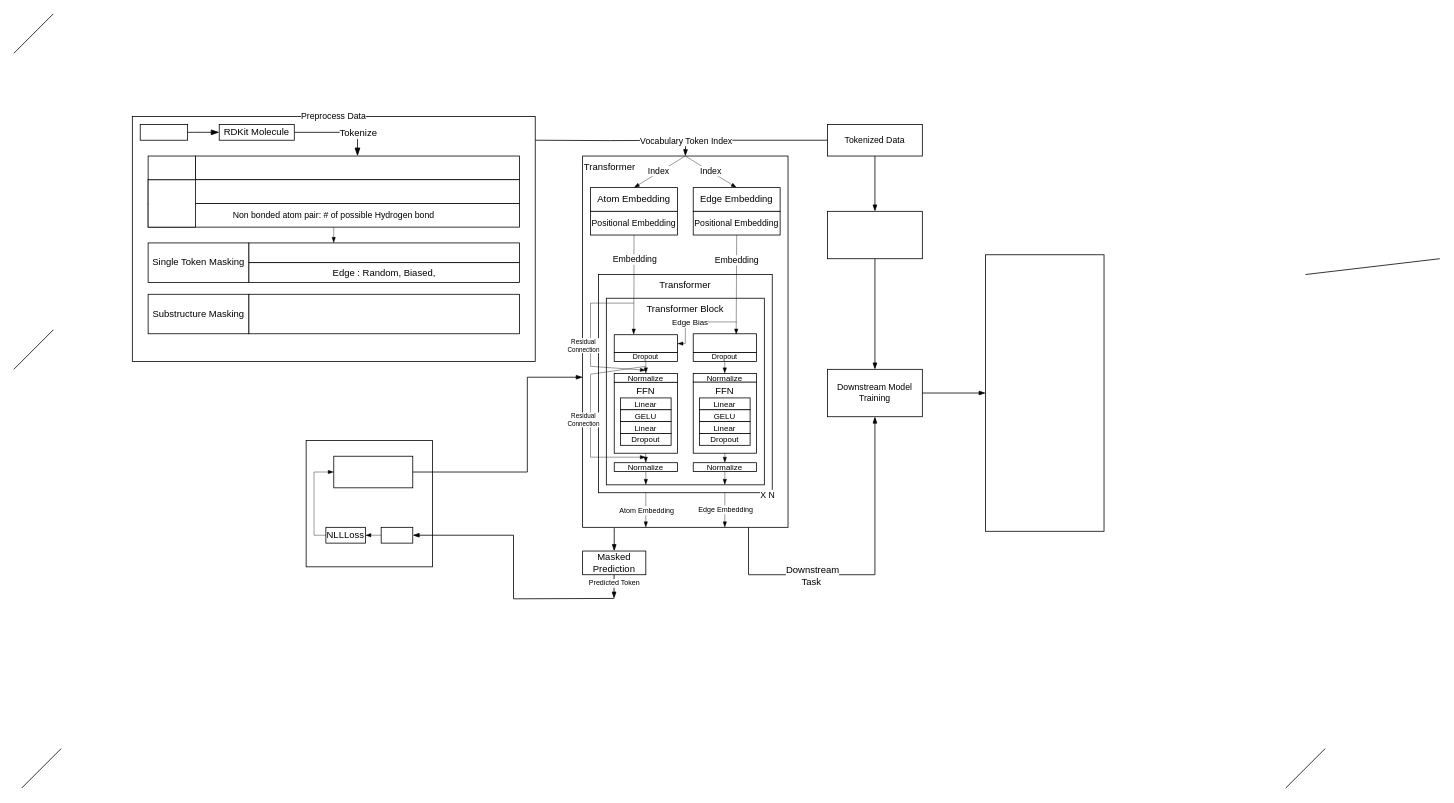
Some shapes in this 1454 by 803 pixel diagram are drawn without their labels. Here are the shapes that lost their labels. From the top down, the centre of each, then its label:
At (163,132): "SMILES".
At (171,167): "Node".
At (357,167): "Atom : Atom Type, Hybridization, Number of H, Formal Charge, Aromatic, Radical".
At (171,203): "Edge".
At (333,191): "Bond : Bond Type, Ring, Conjugated, Stereo".
At (383,252): "Atom : Random, Biased,".
At (874,235): "Downstream Task Label Generation".
At (383,313): "Fragments, Functional Group, Ring, Chain, Branch, Conjugated system".
At (645,343): "Edge-Biased Atom Attention".
At (724,343): "Edge Axial Attention".
At (1044,392): "Downstream Task -".
At (373,471): "Backpropagate by Adam".
At (396,535): "Loss".
